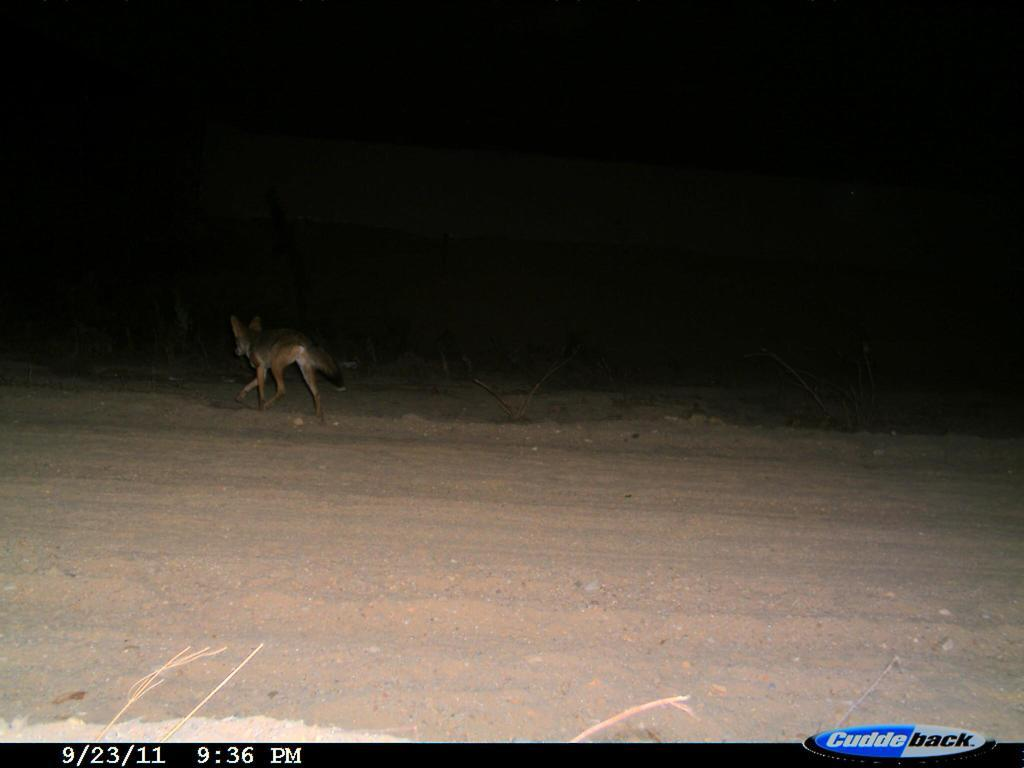coyote: (217, 303, 355, 425)
